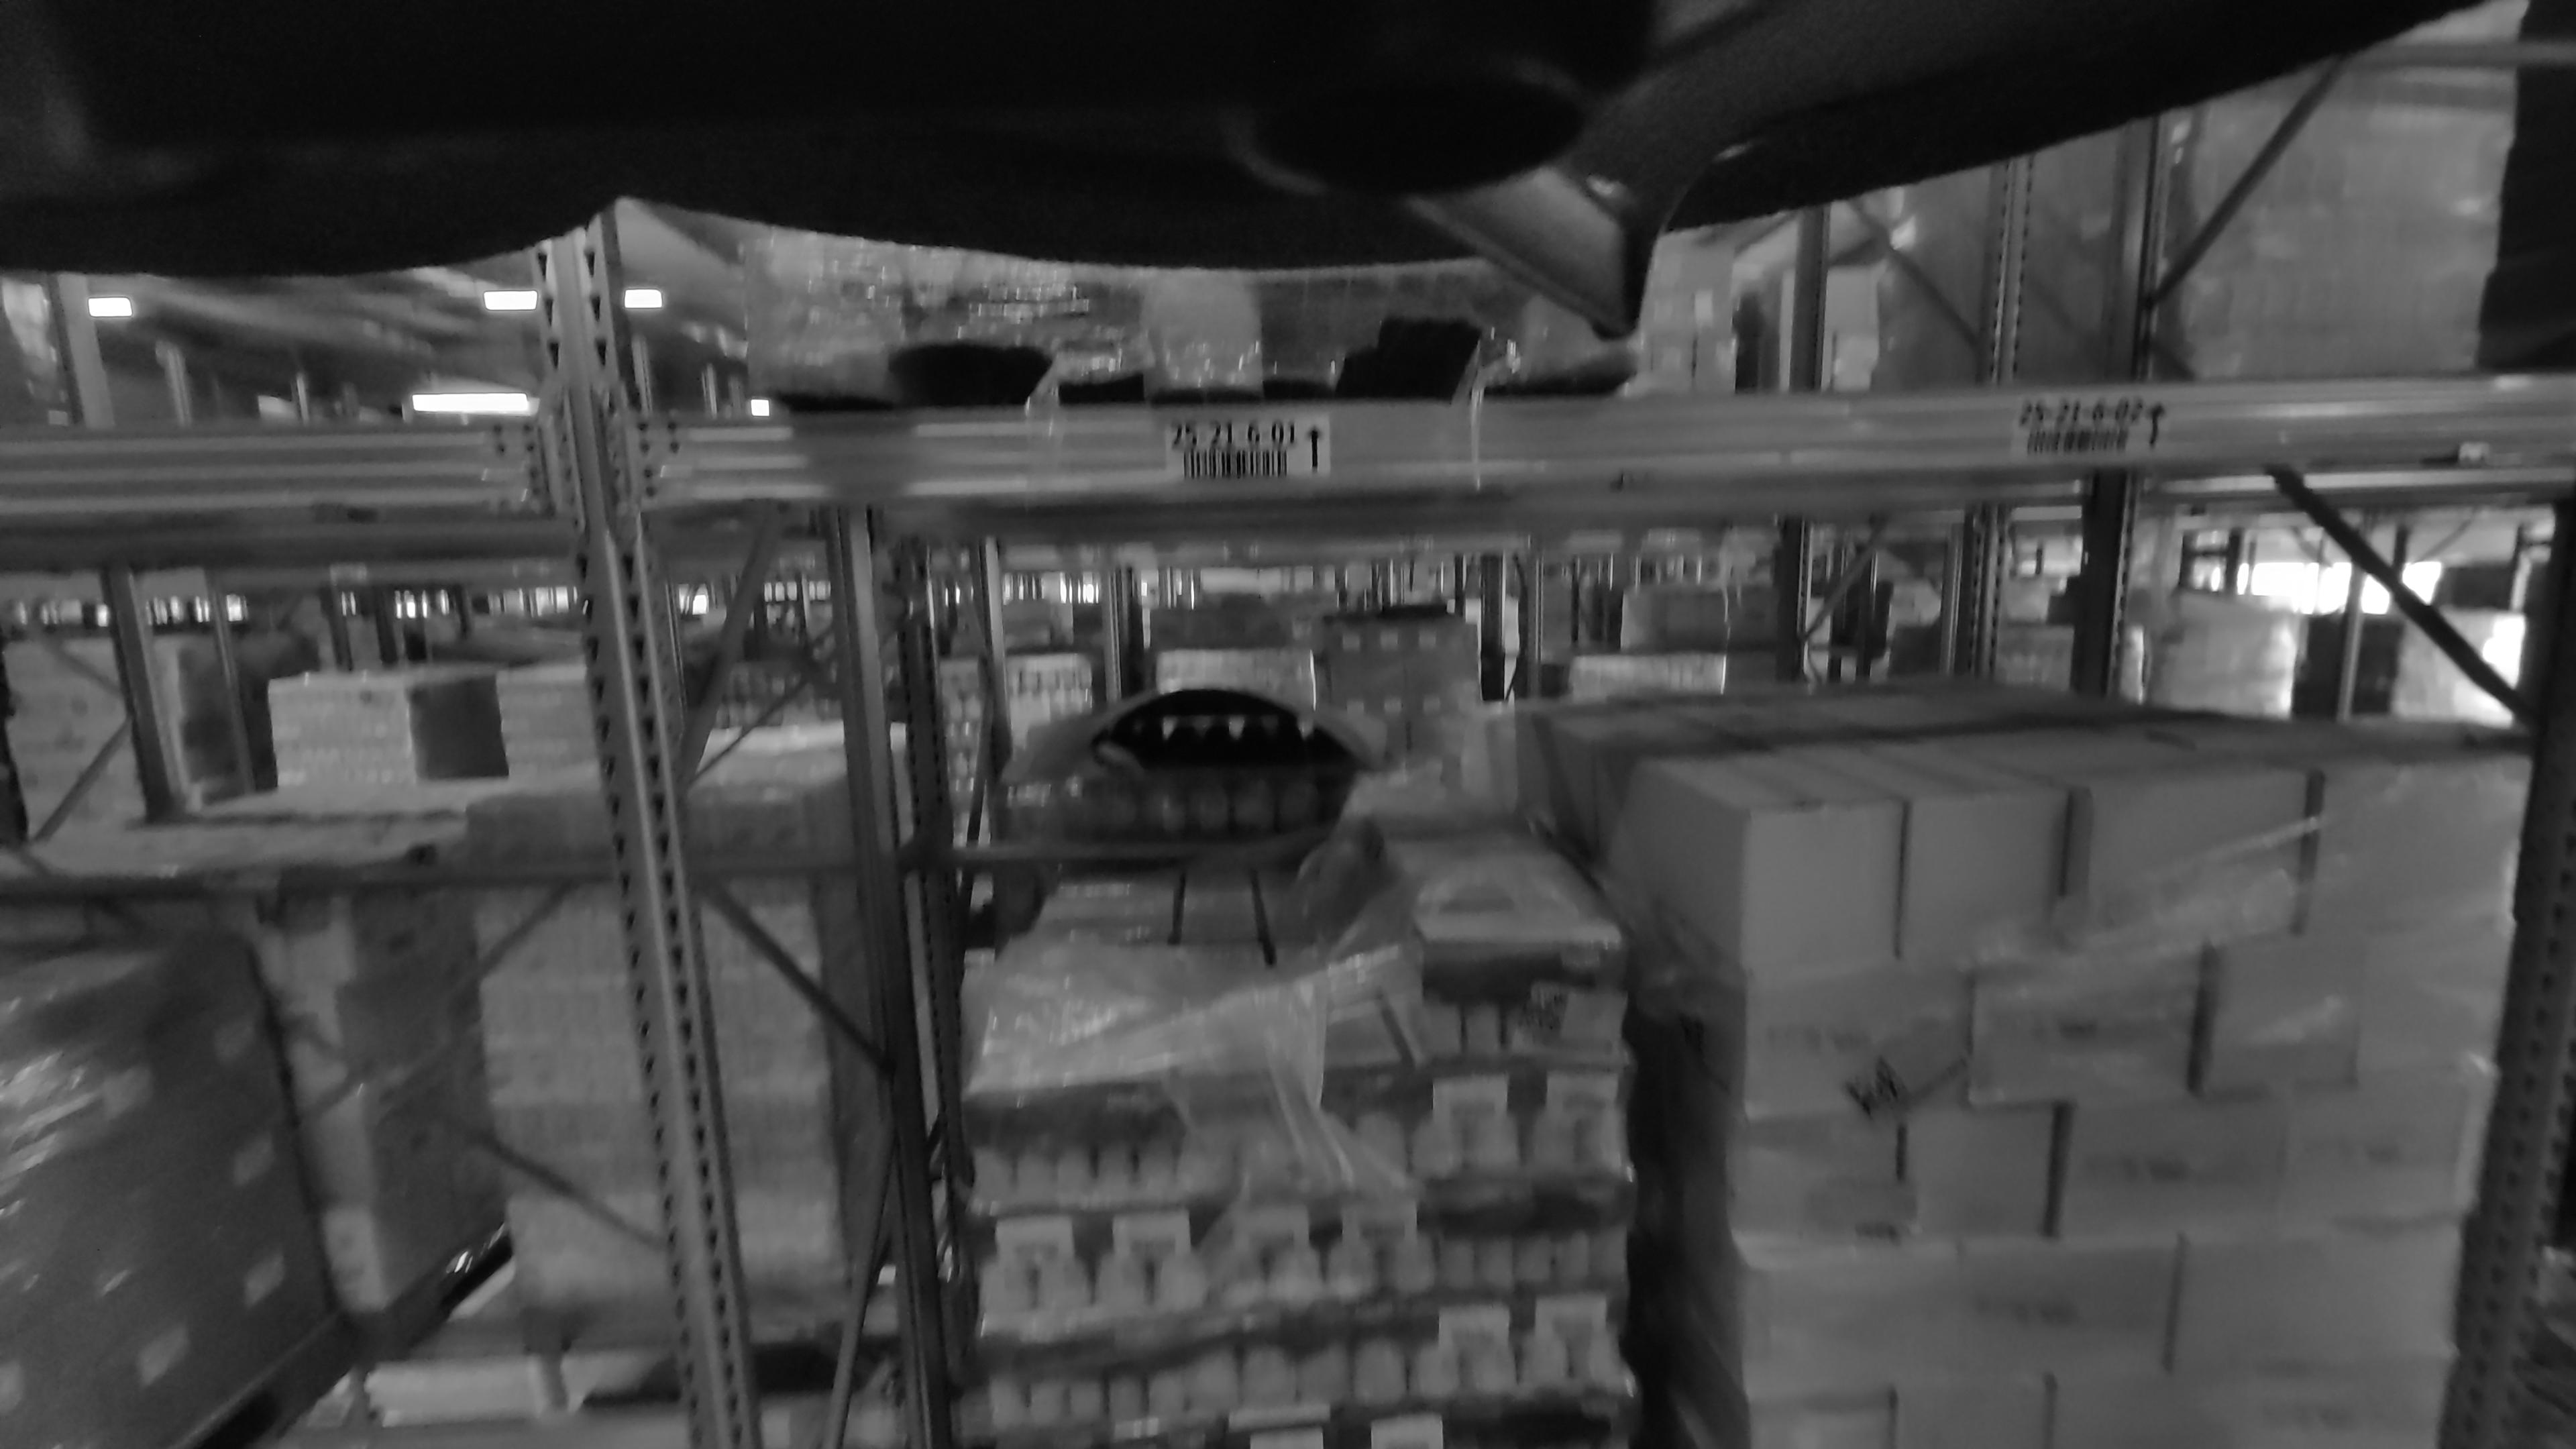empty-shelf: (121, 559, 696, 1449)
